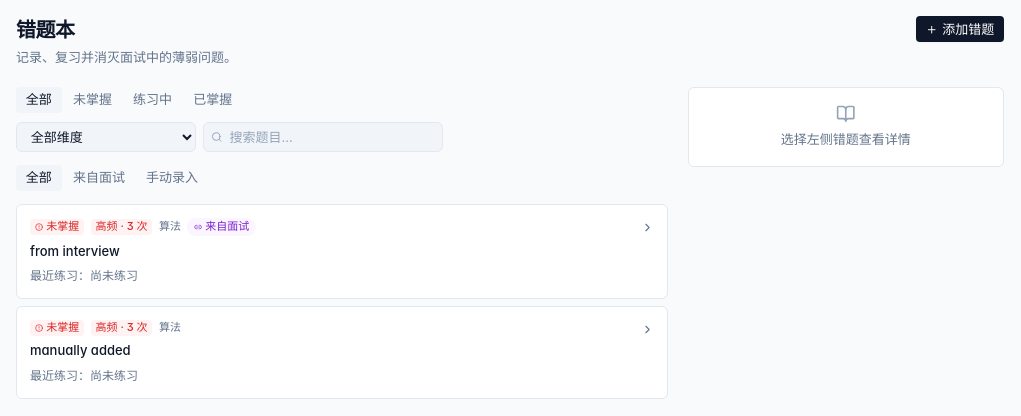
Test case: ErrorBook page — source filter UI (020 D-009) › source filter "来自面试" shows only sourced items
Click the tab with test id "error-source-filter-auto" at (99, 178), box [63,164,135,190]
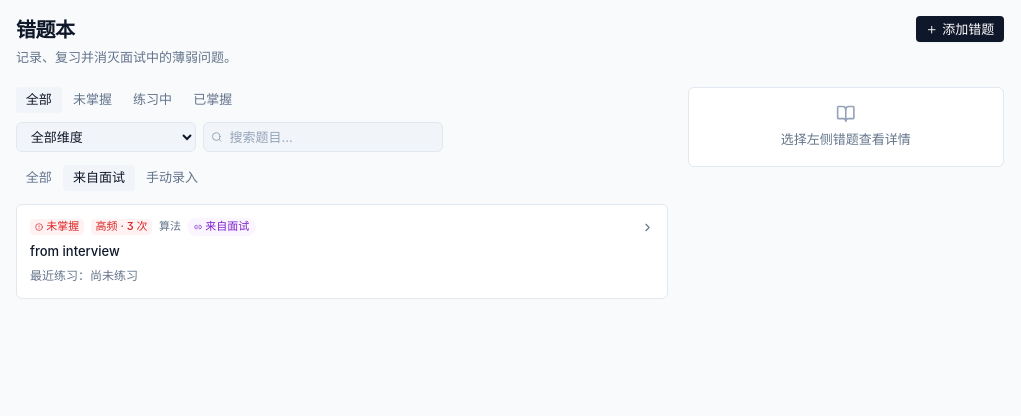
Expected: the button with test id "error-question-eq-sourced" is shown, [16,204,668,299]
Expected: the button with test id "error-question-eq-manual" is gone
